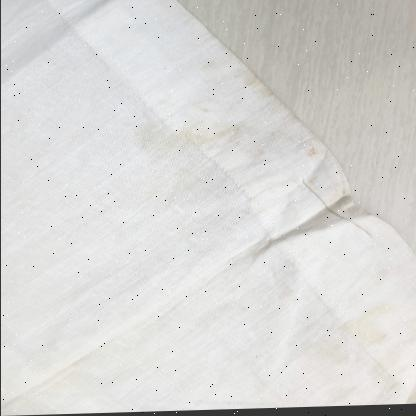spot: (100, 30, 372, 238), (318, 228, 416, 393), (210, 82, 264, 165), (214, 128, 322, 169), (138, 138, 188, 168)
